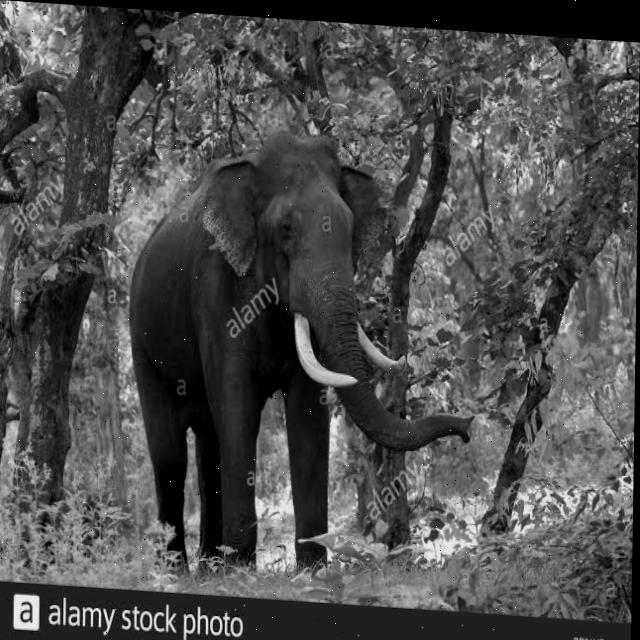Elephant: (123, 120, 478, 591)
